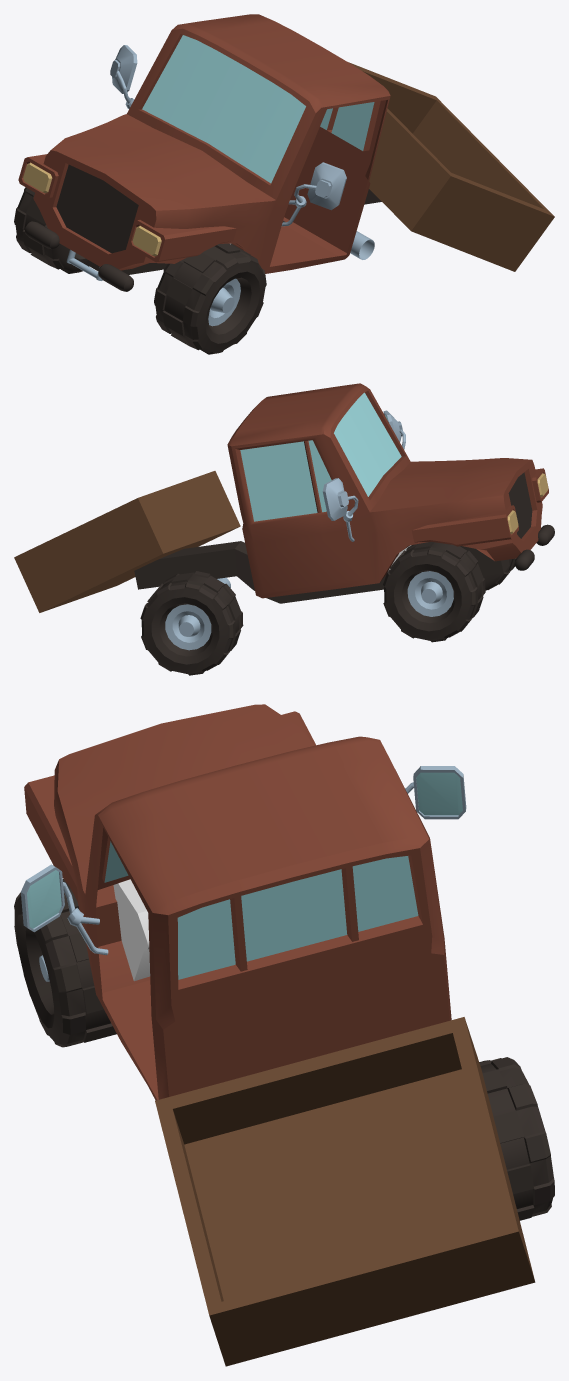
File: WreckedTruckNoSeats.fbx
3 renders of one model, top to bottom at view 1: azimuth 30°, elevation 25°; view 2: azimuth 150°, elevation 25°; view 3: azimuth 270°, elevation 25°, orthographic. The views are drawn at different scales.
Parts seen in each view (by area): view 1: TruckBody.001, TruckBody.003, Tire_LeftFront.002, Tire_RightFront.001, Tires_Rear.001; view 2: TruckBody.001, TruckBody.003, Tires_Rear.001, Tire_RightFront.001; view 3: TruckBody.001, TruckBody.003, Tire_LeftFront.002, Tires_Rear.001, Cube.017.
Part boxes in pixels (x1=…): TruckBody.001: x1=18, y1=14, x2=390, y2=291; TruckBody.003: x1=348, y1=62, x2=554, y2=271; Tire_LeftFront.002: x1=154, y1=243, x2=266, y2=354; Tire_RightFront.001: x1=14, y1=187, x2=88, y2=273; Tires_Rear.001: x1=350, y1=231, x2=374, y2=259; TruckBody.001: x1=134, y1=383, x2=554, y2=603; TruckBody.003: x1=14, y1=471, x2=240, y2=612; Tires_Rear.001: x1=140, y1=571, x2=243, y2=675; Tire_RightFront.001: x1=383, y1=542, x2=485, y2=642; TruckBody.001: x1=20, y1=704, x2=466, y2=1100; TruckBody.003: x1=155, y1=1017, x2=535, y2=1366; Tire_LeftFront.002: x1=14, y1=879, x2=116, y2=1047; Tires_Rear.001: x1=479, y1=1057, x2=554, y2=1220; Cube.017: x1=113, y1=879, x2=150, y2=981.
Bounding box in the file's own units: 646 × 395 × 341.
